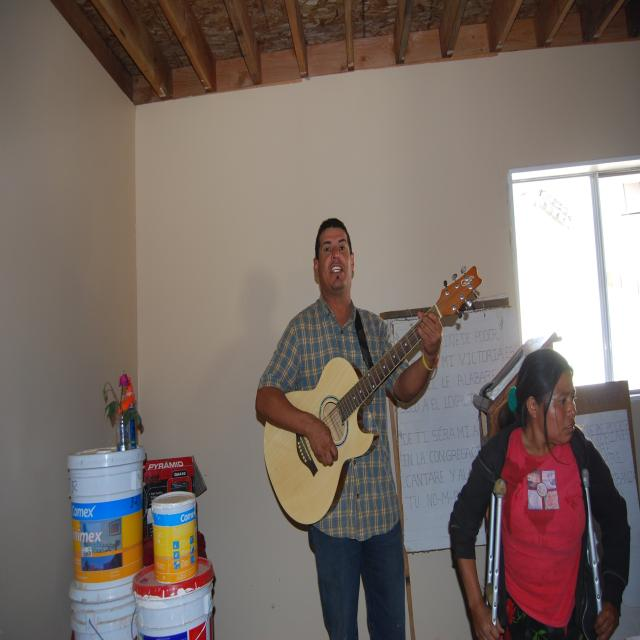guitar: (264, 265, 484, 526)
